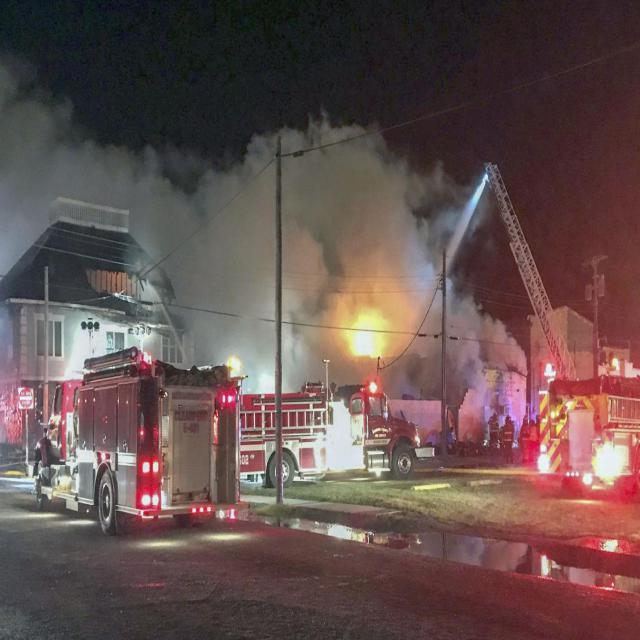Fire: (343, 294, 395, 368)
